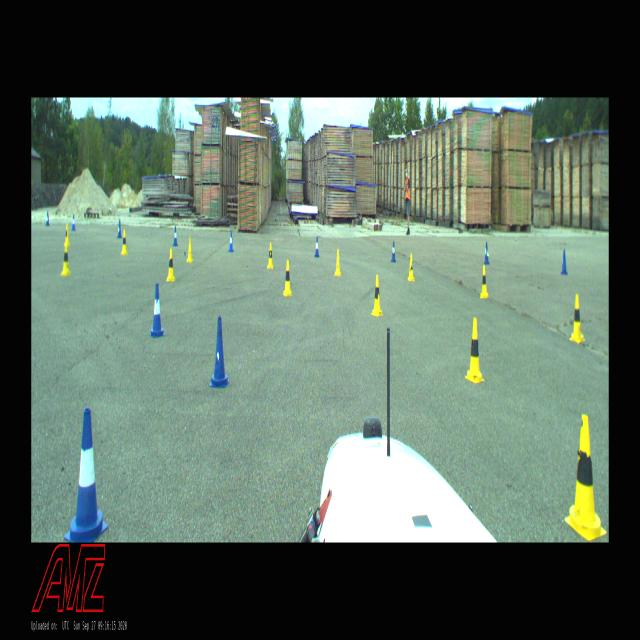blue_cone: (64, 408, 108, 542), (210, 318, 230, 388), (149, 283, 165, 339), (562, 250, 568, 276), (483, 242, 489, 266), (314, 236, 320, 258), (228, 230, 234, 252), (391, 239, 396, 263), (174, 226, 178, 246), (118, 219, 122, 238), (72, 214, 76, 232), (46, 212, 50, 226)
yellow_cone: (564, 414, 606, 542), (465, 317, 485, 384), (570, 294, 586, 344), (371, 275, 383, 316), (283, 260, 293, 296), (60, 242, 70, 276), (167, 248, 176, 282), (480, 266, 488, 300), (408, 254, 416, 282), (334, 248, 342, 276), (120, 229, 128, 255), (186, 236, 194, 262), (267, 243, 274, 269), (64, 223, 70, 246)
